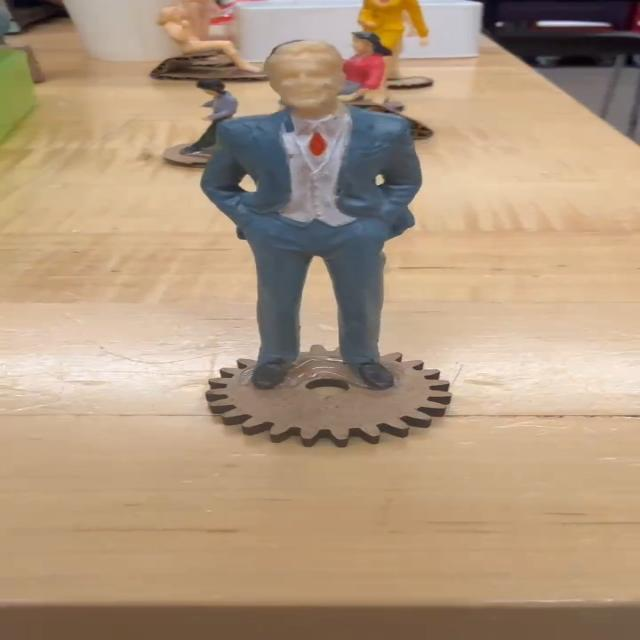Authorized: (208, 34, 425, 397)
